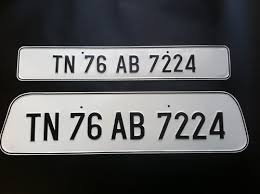T: (23, 109, 42, 144), (52, 54, 64, 74)
